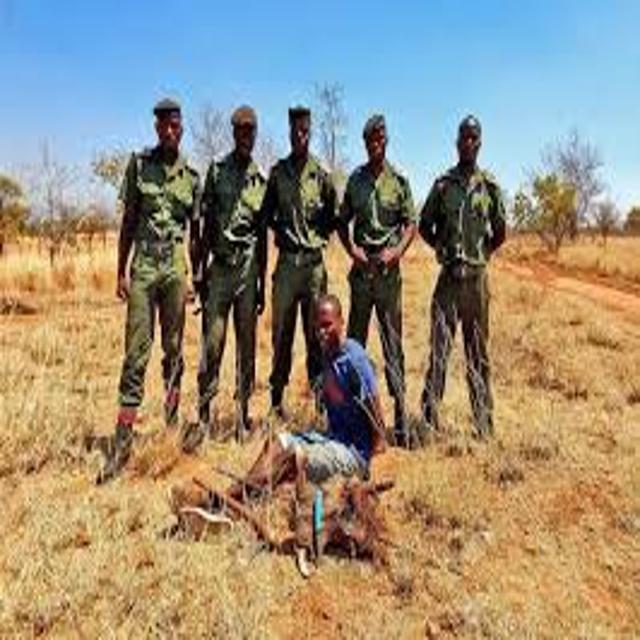poacher: (147, 273, 426, 571)
ranger: (73, 84, 232, 511), (394, 100, 538, 487), (323, 94, 457, 469), (172, 85, 301, 470), (244, 83, 359, 463)
